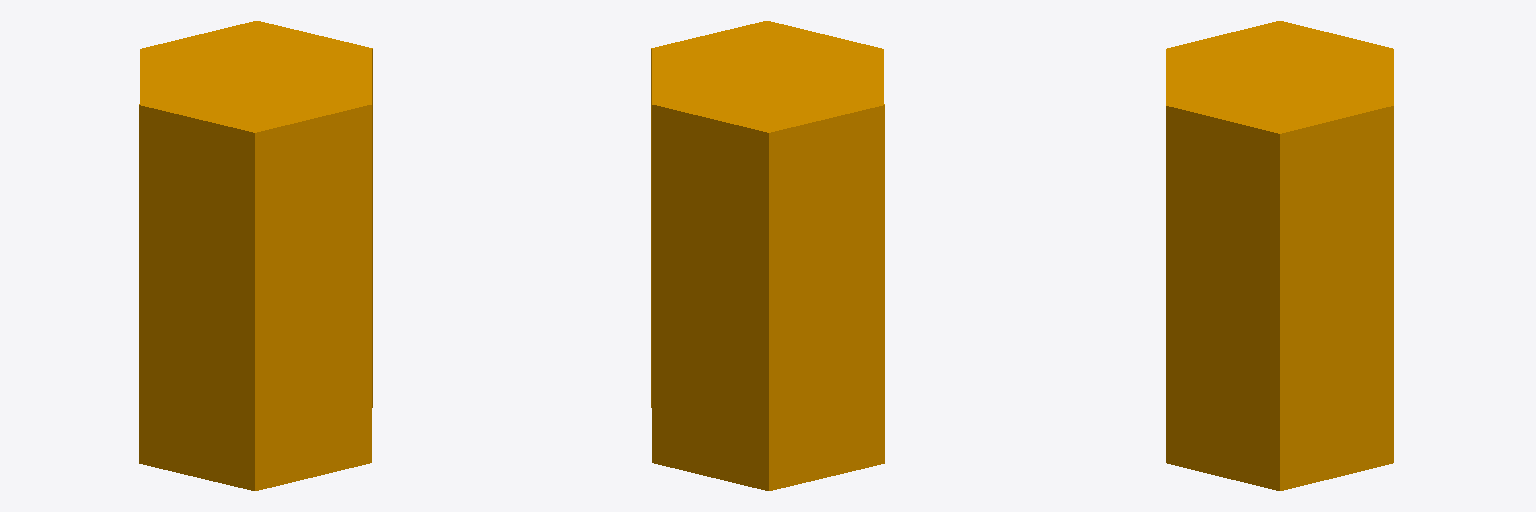
robot.urdf — soupA:
<?xml version="1.0"?>
<robot name="soupA">
	<link name="soupA">
		<inertial>
			<!--origin xyz="0 0 0" rpy="0 0 0" /-->
			<mass value="0.5" />
			<!--inertia ixx="0.000360" ixy="0" ixz="0" iyy="0.0000615" iyz="0" izz="0.00036" /-->
		</inertial>
    		<visual>
	      		<!--origin rpy="0 0 0" xyz="0 0 0"/-->
      			<geometry>
        			<mesh filename="soupA.obj"/>
      			</geometry>
         	</visual>
    		<collision>
      			<!--origin rpy="0 0 0" xyz="0 0 0"/-->
      			<geometry>
        			<mesh filename="soupA.obj"/>
      			</geometry>
    		</collision>
	</link>
</robot>

--- What the picture shows (computed from the rendered views, not written in the file) ---
Views: 3 orthographic renders of the robot side by side, from view 1: azimuth 30°, elevation 25°; view 2: azimuth 150°, elevation 25°; view 3: azimuth 270°, elevation 25°.
Robot: soupA — 1 links, 0 joints (none); root link soupA; default pose: all joints at 0.
Visible links, largest first — view 1: soupA; view 2: soupA; view 3: soupA.
Boxes of the visible links, left/top/right/bottom form: soupA: left=139, top=21, right=372, bottom=490; soupA: left=651, top=21, right=884, bottom=490; soupA: left=1166, top=21, right=1393, bottom=490.
Size in the robot's own frame: 0.068 by 0.058 by 0.1 metres.
1 mesh visuals loaded from 1 distinct referenced files (1 OBJ).
